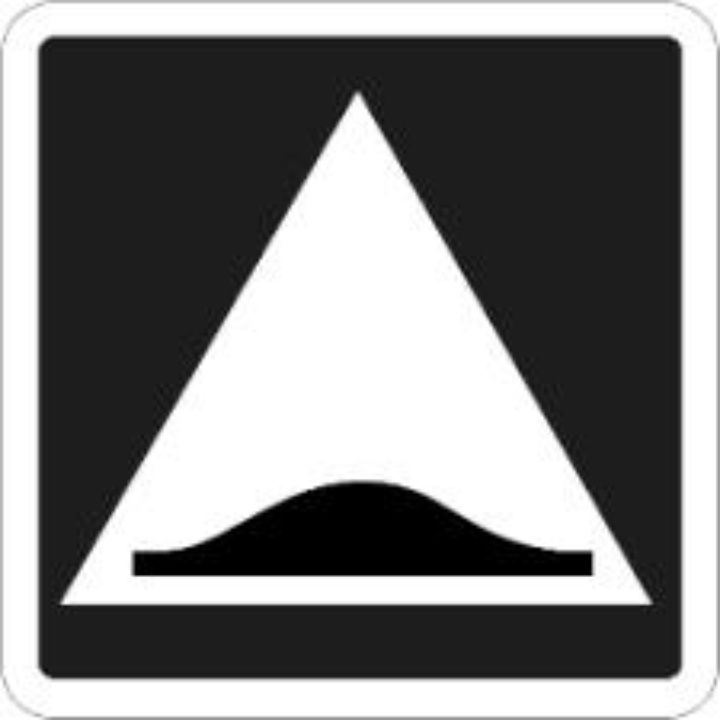bump: (117, 416, 601, 601)
